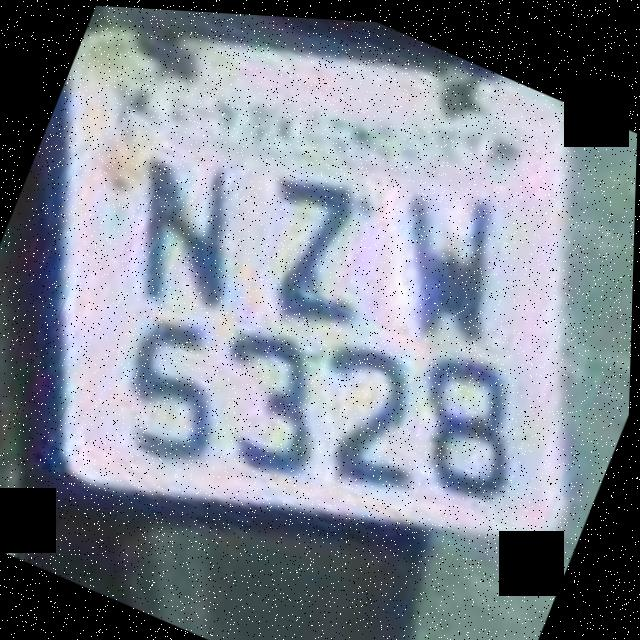2: (266, 295, 473, 513)
3: (150, 272, 392, 520)
5: (66, 281, 283, 498)
8: (378, 309, 578, 525)
N: (81, 109, 303, 349)
W: (355, 148, 547, 369)
Z: (220, 129, 415, 338)
